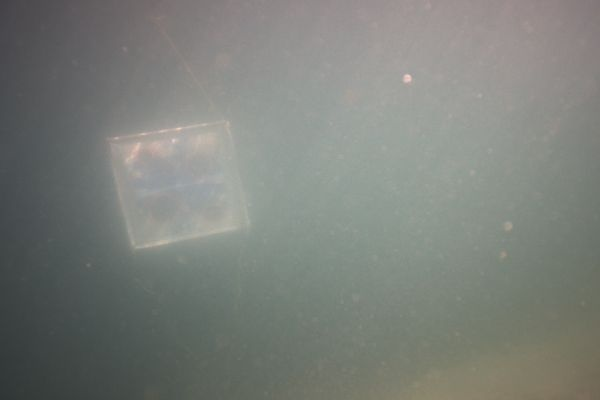torpille: (110, 120, 248, 248)
torpille_target: (151, 196, 179, 222), (190, 156, 208, 176), (204, 202, 222, 222), (136, 148, 154, 166)
